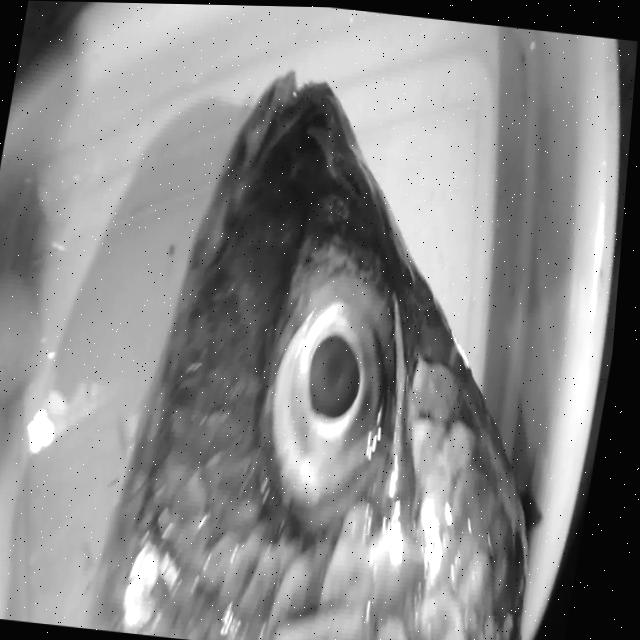Fresh: (241, 269, 399, 495)
